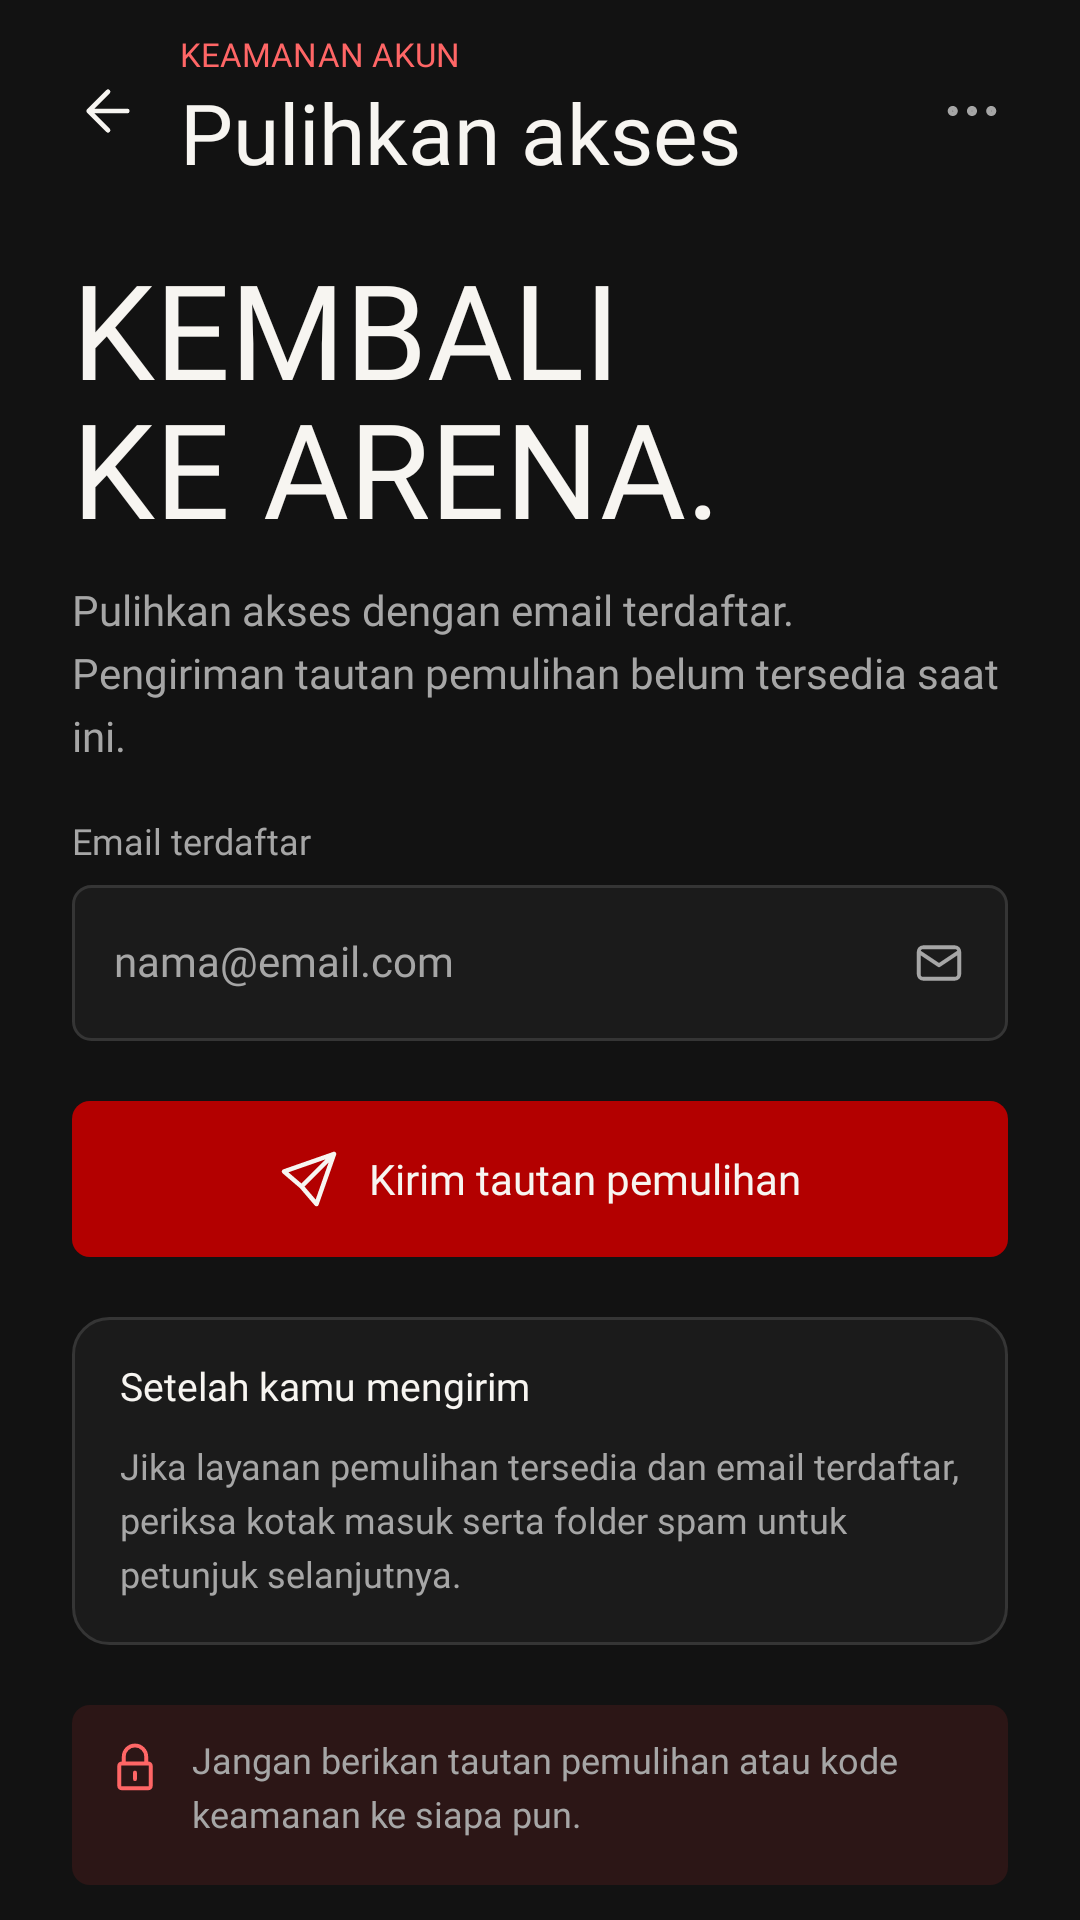

Where icons sit on this 1080px×1920px app screen, as (x1, y1, x2, y2):
Kembali ke halaman masuk: (86, 89, 130, 133)
Opsi akun lainnya: (947, 106, 997, 116)
